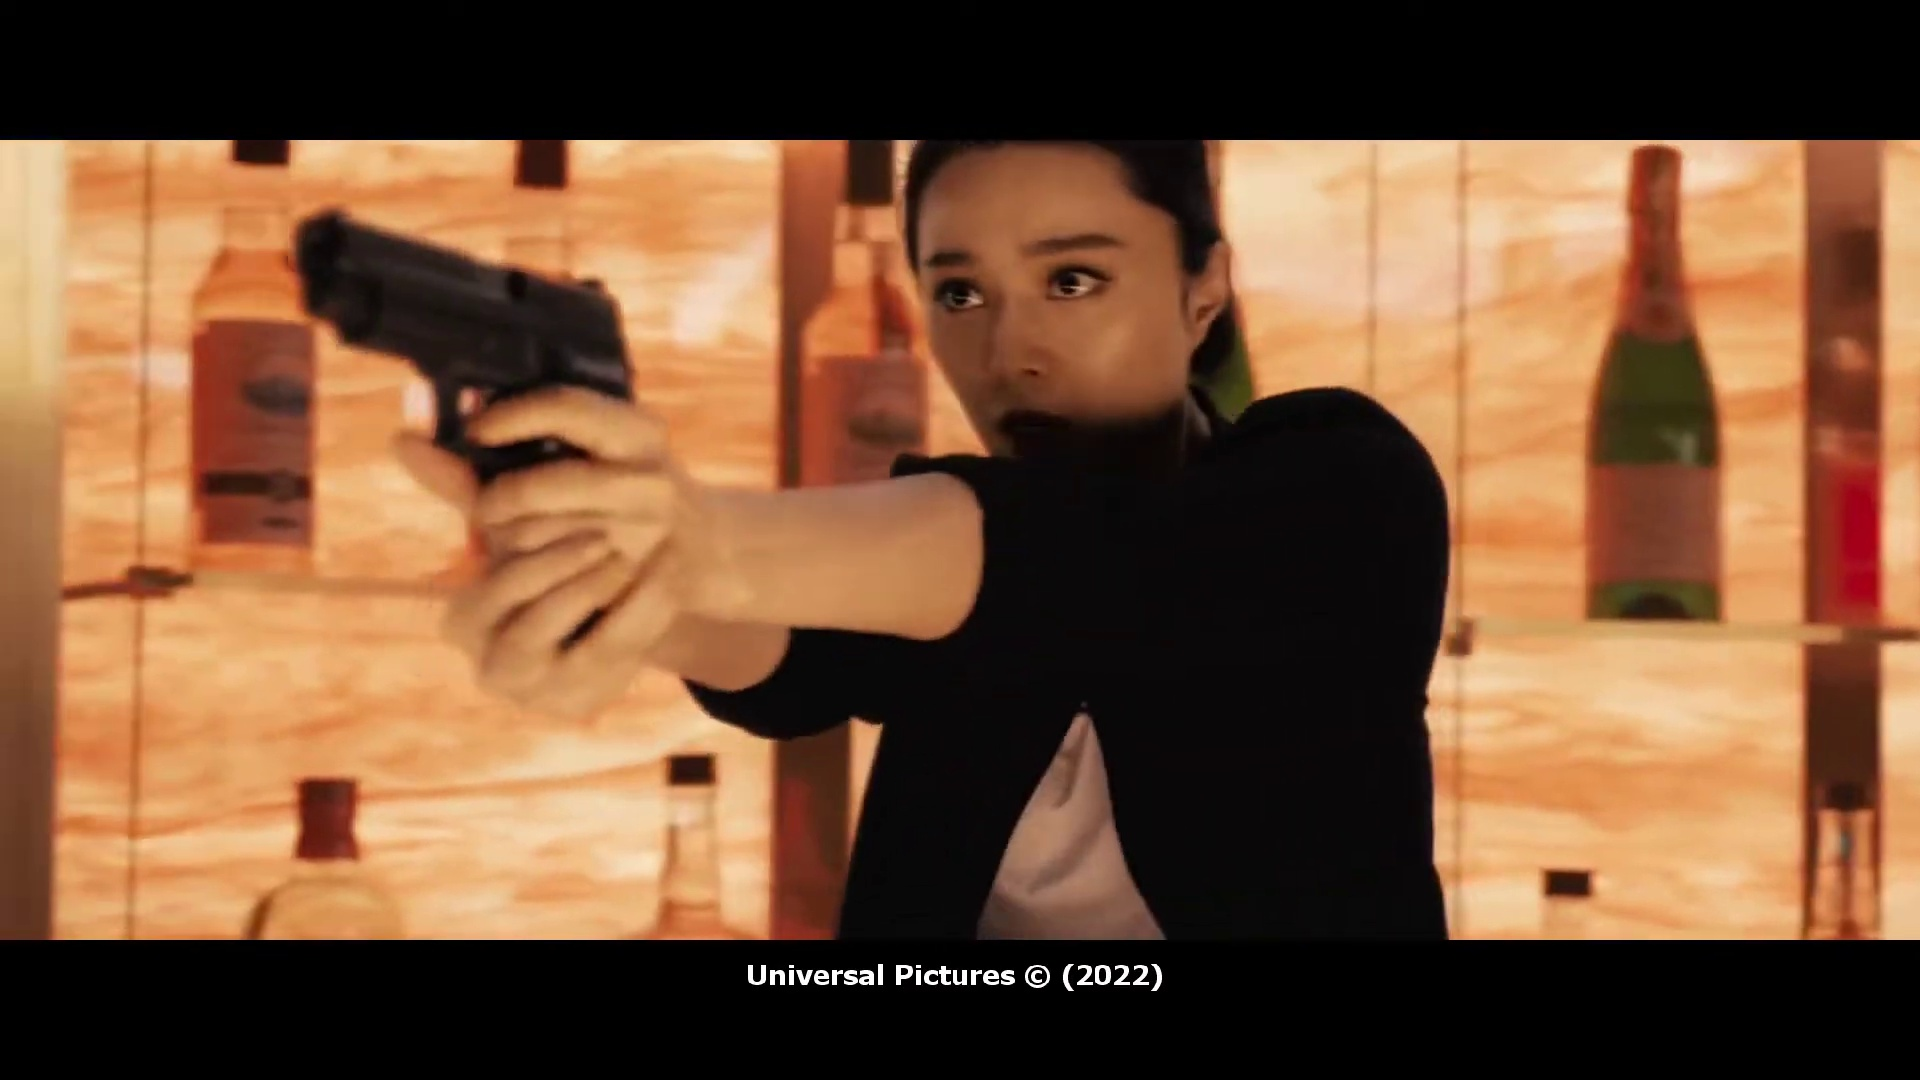gun: (294, 193, 632, 589)
p_w_gun: (286, 141, 1453, 940)
